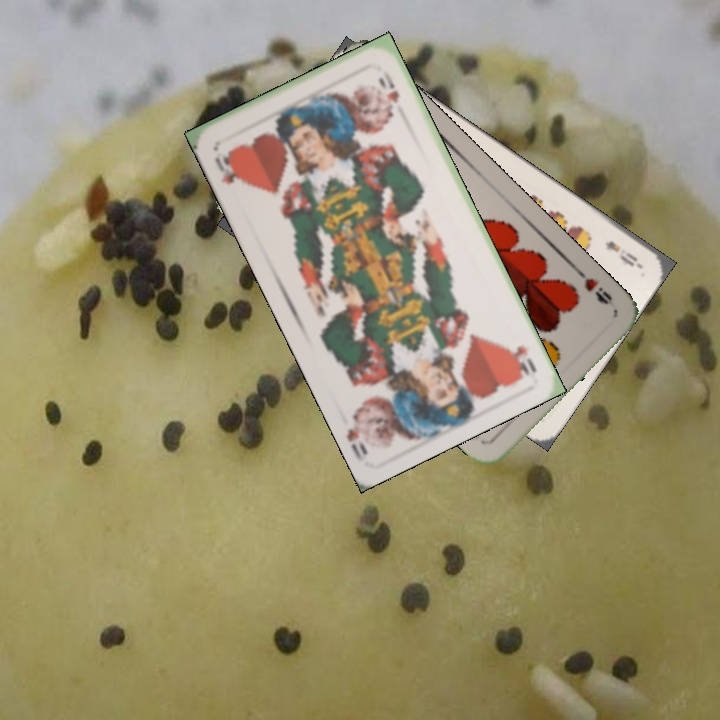E9: (600, 237, 643, 270)
H9: (571, 264, 616, 310)
HO: (210, 147, 247, 187), (504, 341, 539, 381)
